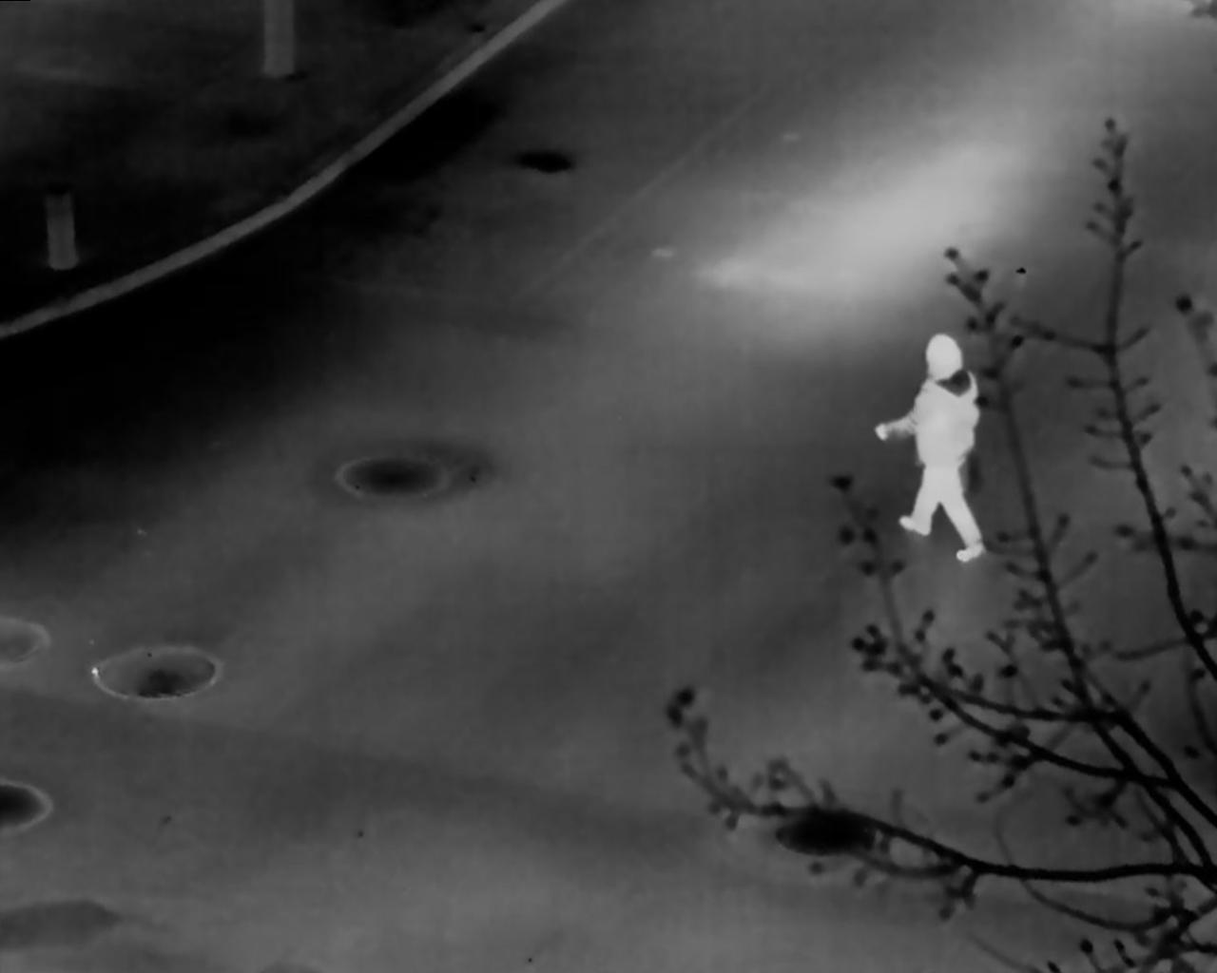person: (873, 332, 987, 563)
